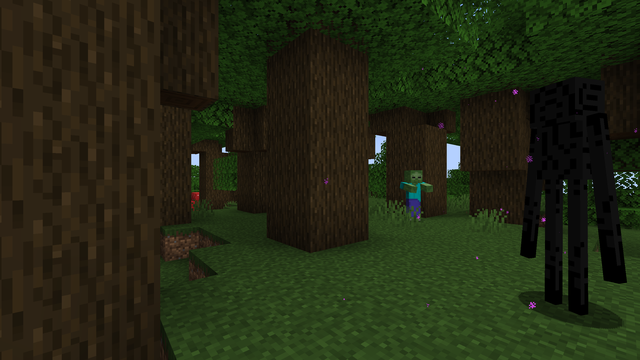endermens: (529, 64, 600, 325)
zombies: (402, 171, 423, 221)
